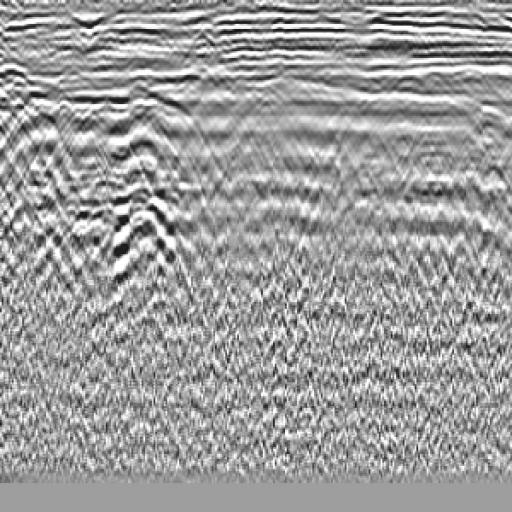non-metallic: (1, 37, 233, 308)
